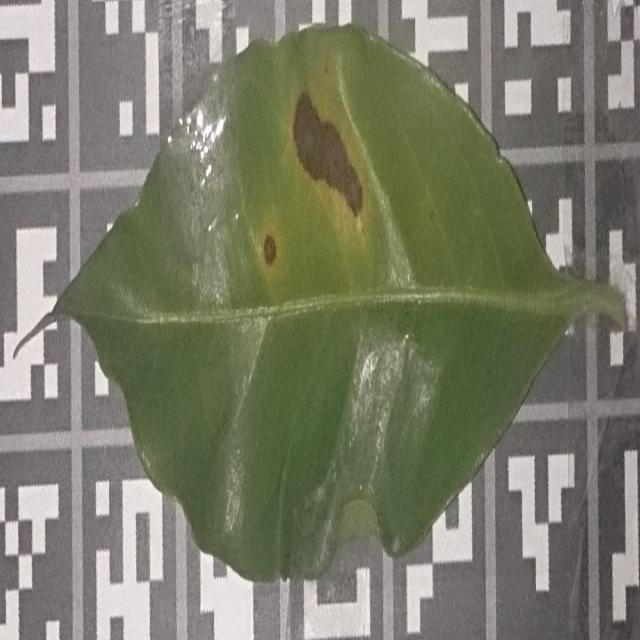Enfermedad-Mancha-de-hierro: (51, 25, 618, 586)
